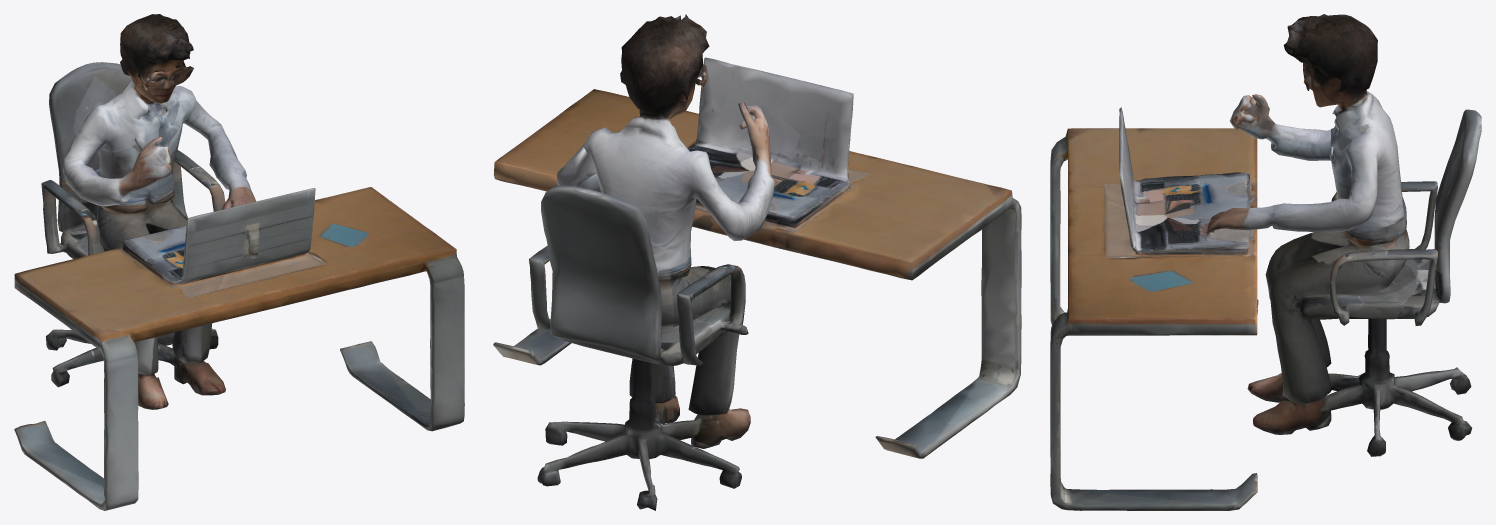
The model's file is estudiando.glb.
The picture shows the model from 3 angles, left to right: view 1: azimuth 30°, elevation 25°; view 2: azimuth 150°, elevation 25°; view 3: azimuth 270°, elevation 25°; orthographic projection. The views are drawn at different scales.
Bounding box in the file's own units: 1.99 × 1.92 × 1.89.
1 material, 1 textured.
